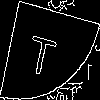T: (25, 24, 60, 79)
